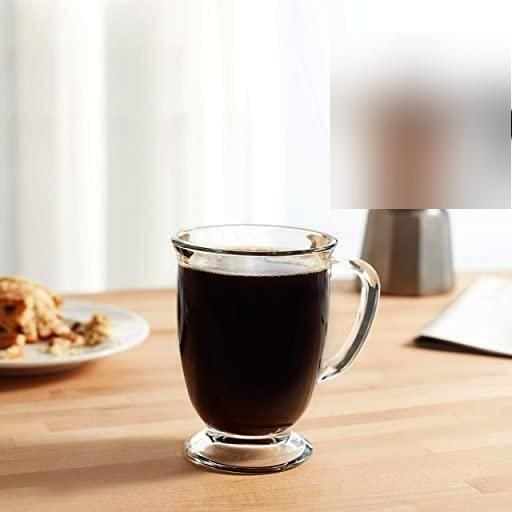glass-mug: (162, 218, 382, 444)
